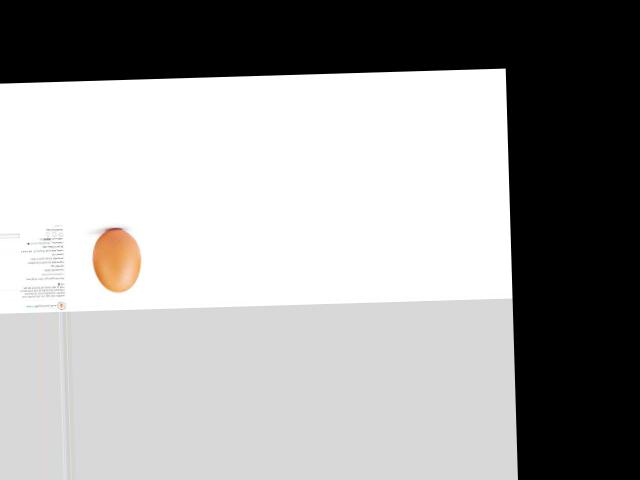egg: (91, 228, 141, 292)
